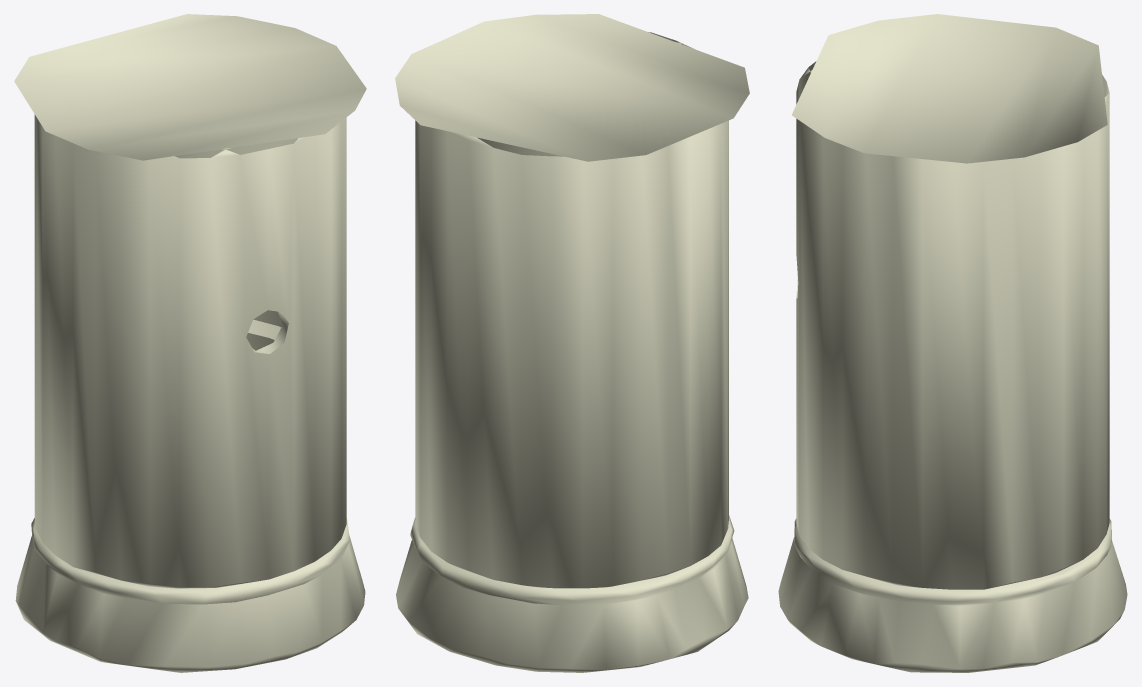
3 renders of one model, left to right at view 1: azimuth 30°, elevation 25°; view 2: azimuth 150°, elevation 25°; view 3: azimuth 270°, elevation 25°, orthographic.
Bounding box in the file's own units: 0.3066 × 0.4902 × 0.3023.
